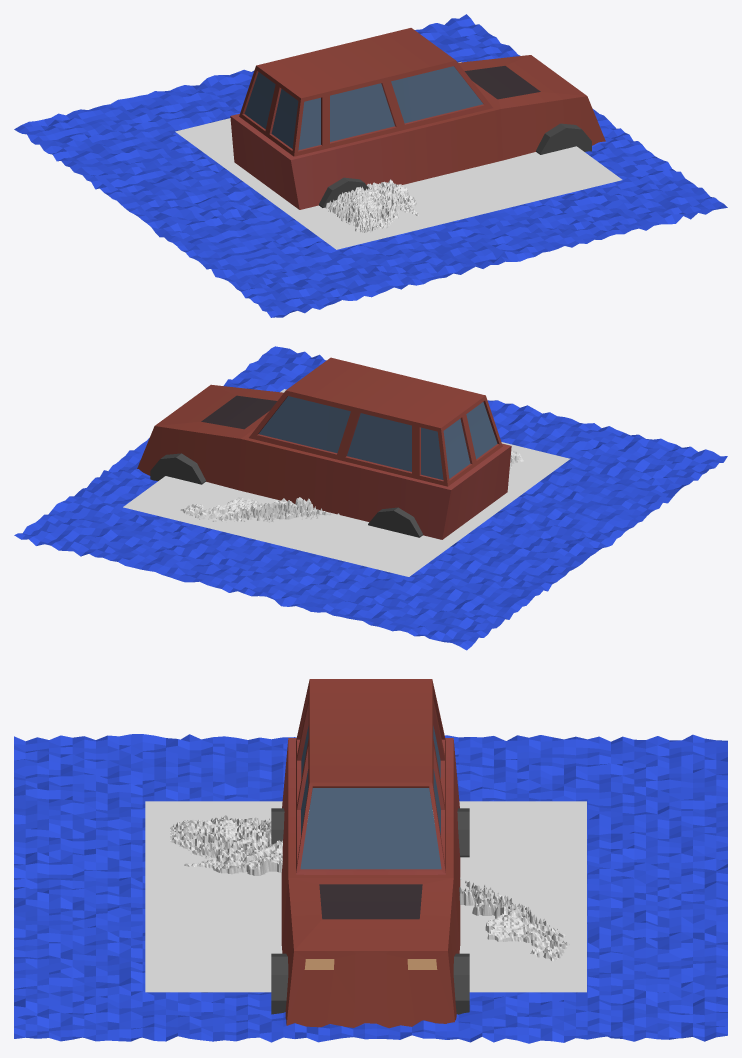
Rendered from GeoNerd.fbx.
3 views of the same model, one above another, from view 1: azimuth 30°, elevation 25°; view 2: azimuth 150°, elevation 25°; view 3: azimuth 270°, elevation 25° (orthographic). The views are drawn at different scales.
Parts seen in each view (by area): view 1: Water, Car_Body, Plane, Plane.001, FR_Wheel, RR_Wheel; view 2: Water, Car_Body, Plane, Plane.001, FL_Wheel, RL_Wheel; view 3: Water, Car_Body, Plane, Plane.001, FR_Wheel, FL_Wheel, RL_Wheel.
Part boxes in pixels (box(x1,y1,x2,y2)): Water: box(14, 14, 727, 317); Car_Body: box(230, 28, 605, 209); Plane: box(175, 62, 622, 249); Plane.001: box(325, 179, 418, 232); FR_Wheel: box(536, 123, 591, 154); RR_Wheel: box(319, 177, 368, 207); Water: box(14, 346, 727, 650); Car_Body: box(137, 357, 511, 539); Plane: box(123, 389, 570, 576); Plane.001: box(180, 450, 523, 522); FL_Wheel: box(150, 453, 205, 484); RL_Wheel: box(368, 507, 422, 537); Water: box(14, 734, 727, 1043); Car_Body: box(281, 679, 460, 1028); Plane: box(145, 801, 586, 992); Plane.001: box(170, 815, 569, 961); FR_Wheel: box(271, 953, 288, 1014); FL_Wheel: box(453, 953, 469, 1014); RL_Wheel: box(457, 808, 469, 857).
Size of what is drawn, in the model's own units: 864 by 251 by 864.
